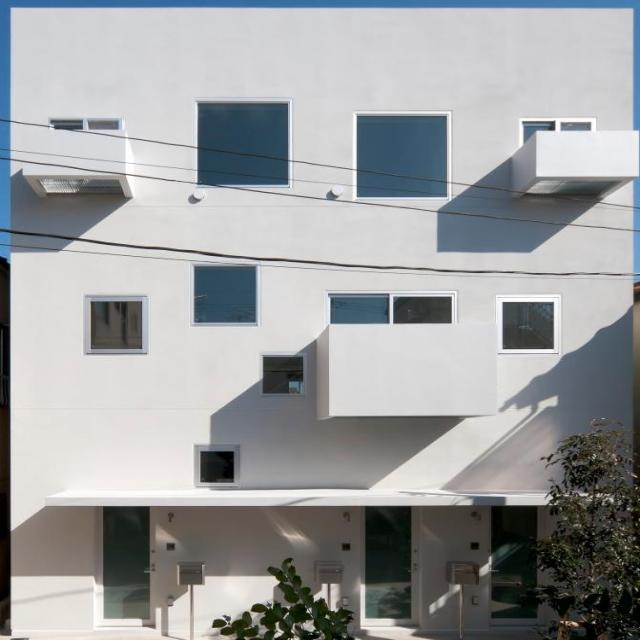door: (93, 510, 154, 633), (363, 507, 417, 633), (489, 511, 545, 630)
window: (356, 113, 449, 199), (196, 103, 290, 187), (83, 293, 147, 352), (191, 269, 256, 327), (331, 293, 455, 323), (502, 296, 562, 352), (263, 355, 308, 396), (522, 119, 593, 144), (196, 447, 239, 488), (50, 119, 122, 129)
